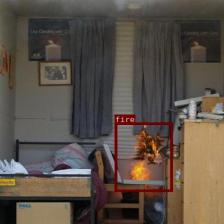fire: (114, 122, 172, 192)
